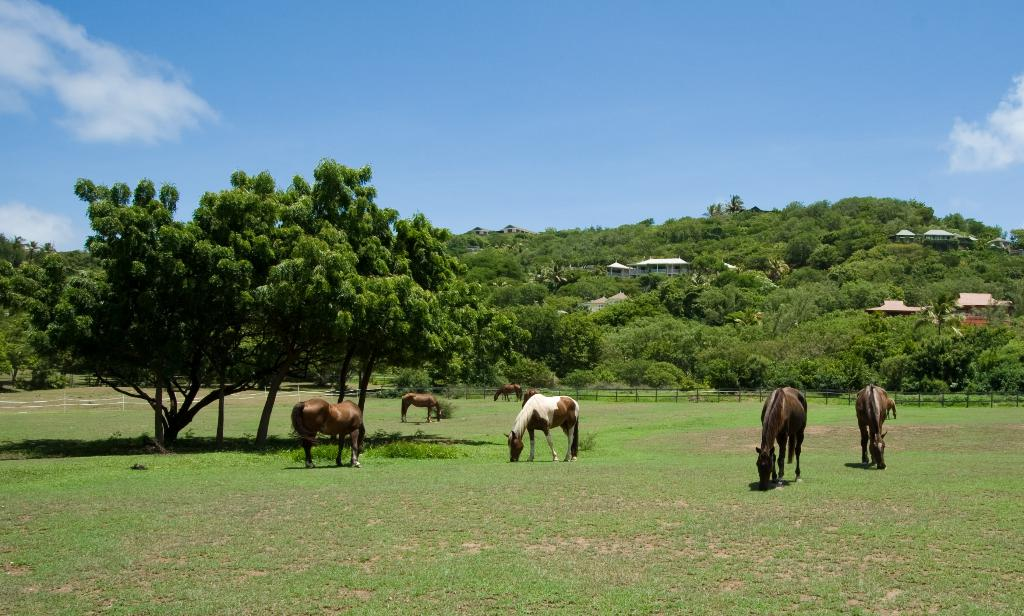horse: (753, 382, 808, 486), (503, 394, 581, 461), (292, 398, 365, 468), (855, 382, 890, 471), (400, 393, 441, 424), (491, 380, 524, 405)
